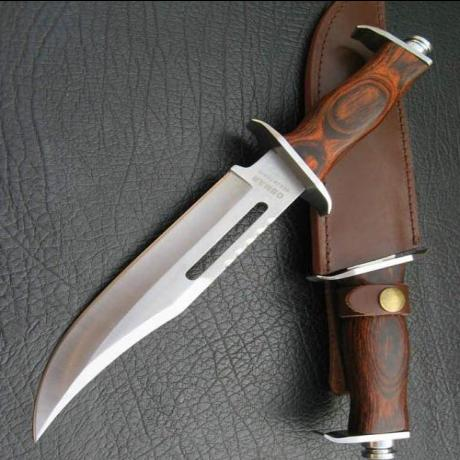weapon: (1, 103, 319, 445), (307, 0, 419, 458)
